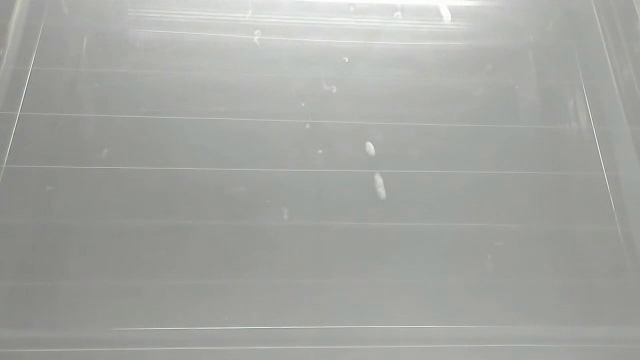alpha: (361, 138, 392, 203), (436, 1, 455, 25)
